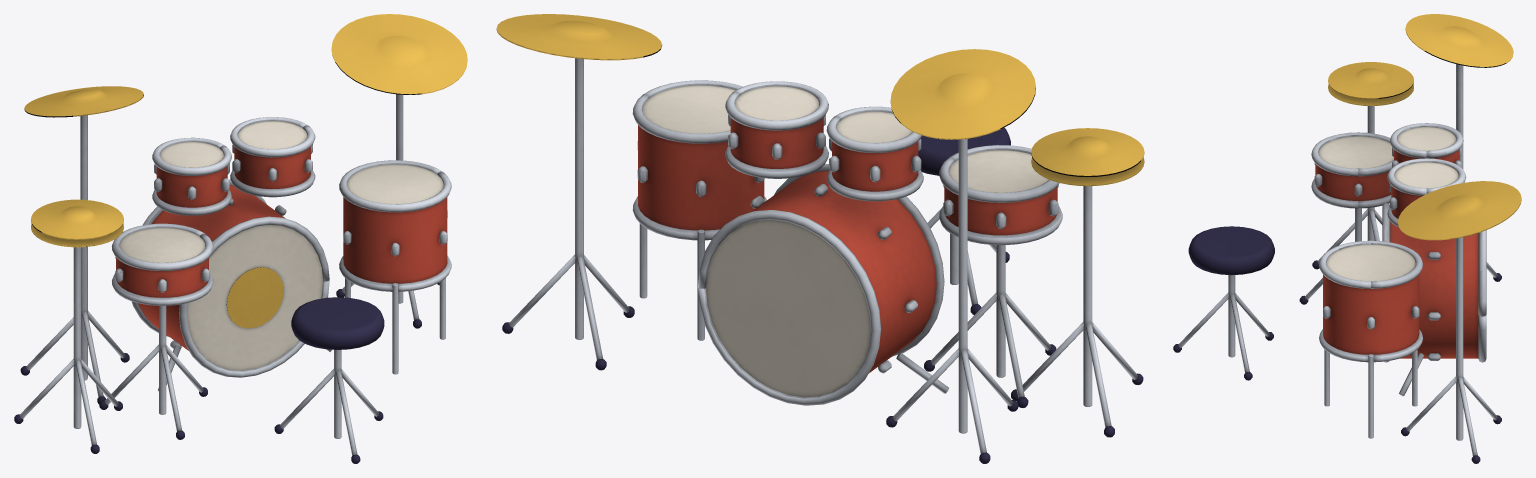
The model's file is DrumKit.fbx.
The picture shows the model from 3 angles, left to right: view 1: azimuth 30°, elevation 25°; view 2: azimuth 150°, elevation 25°; view 3: azimuth 270°, elevation 25°; orthographic projection. The views are drawn at different scales.
Visible parts, largest first — view 1: Pad_36_Mesh, DrumKit_Body, Pad_45_Mesh, Pad_51_Mesh, Pad_38_Mesh, Pad_48_Mesh, Pad_50_Mesh, Pad_42_Mesh, Pad_49_Mesh; view 2: Pad_36_Mesh, DrumKit_Body, Pad_45_Mesh, Pad_49_Mesh, Pad_38_Mesh, Pad_48_Mesh, Pad_50_Mesh, Pad_51_Mesh, Pad_42_Mesh; view 3: DrumKit_Body, Pad_45_Mesh, Pad_36_Mesh, Pad_38_Mesh, Pad_51_Mesh, Pad_49_Mesh, Pad_42_Mesh, Pad_48_Mesh, Pad_50_Mesh.
Boxes of the visible parts, box(x1,y1,x2,y2) form: Pad_36_Mesh: box(131, 179, 329, 377); DrumKit_Body: box(14, 94, 445, 463); Pad_45_Mesh: box(339, 160, 451, 291); Pad_51_Mesh: box(331, 14, 467, 94); Pad_38_Mesh: box(111, 223, 213, 305); Pad_48_Mesh: box(230, 117, 315, 197); Pad_50_Mesh: box(152, 137, 231, 215); Pad_42_Mesh: box(31, 199, 123, 247); Pad_49_Mesh: box(24, 86, 143, 117); Pad_36_Mesh: box(697, 164, 944, 405); DrumKit_Body: box(502, 58, 1143, 463); Pad_45_Mesh: box(632, 80, 766, 240); Pad_49_Mesh: box(890, 49, 1035, 139); Pad_38_Mesh: box(939, 145, 1062, 245); Pad_48_Mesh: box(725, 81, 828, 178); Pad_50_Mesh: box(826, 106, 923, 201); Pad_51_Mesh: box(496, 14, 662, 60); Pad_42_Mesh: box(1031, 128, 1144, 186); DrumKit_Body: box(1173, 64, 1501, 463); Pad_45_Mesh: box(1319, 240, 1423, 362); Pad_36_Mesh: box(1382, 203, 1486, 362); Pad_38_Mesh: box(1311, 132, 1393, 208); Pad_51_Mesh: box(1397, 181, 1521, 240); Pad_49_Mesh: box(1405, 14, 1513, 67); Pad_42_Mesh: box(1328, 62, 1413, 105); Pad_48_Mesh: box(1387, 158, 1466, 227); Pad_50_Mesh: box(1390, 123, 1463, 167).
Bounding box in the file's own units: 1.99 × 1.18 × 1.38.
